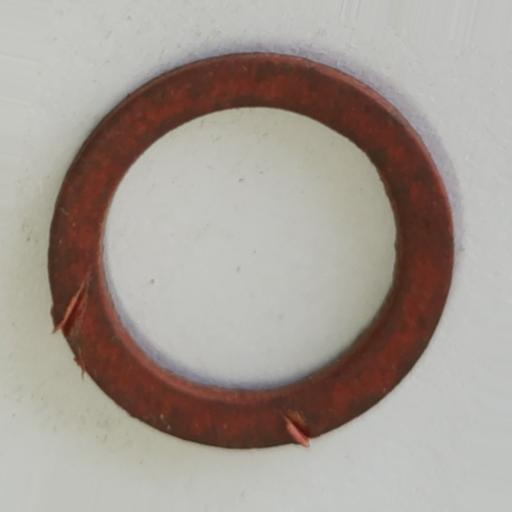defect: (53, 269, 92, 340), (280, 410, 312, 446)
